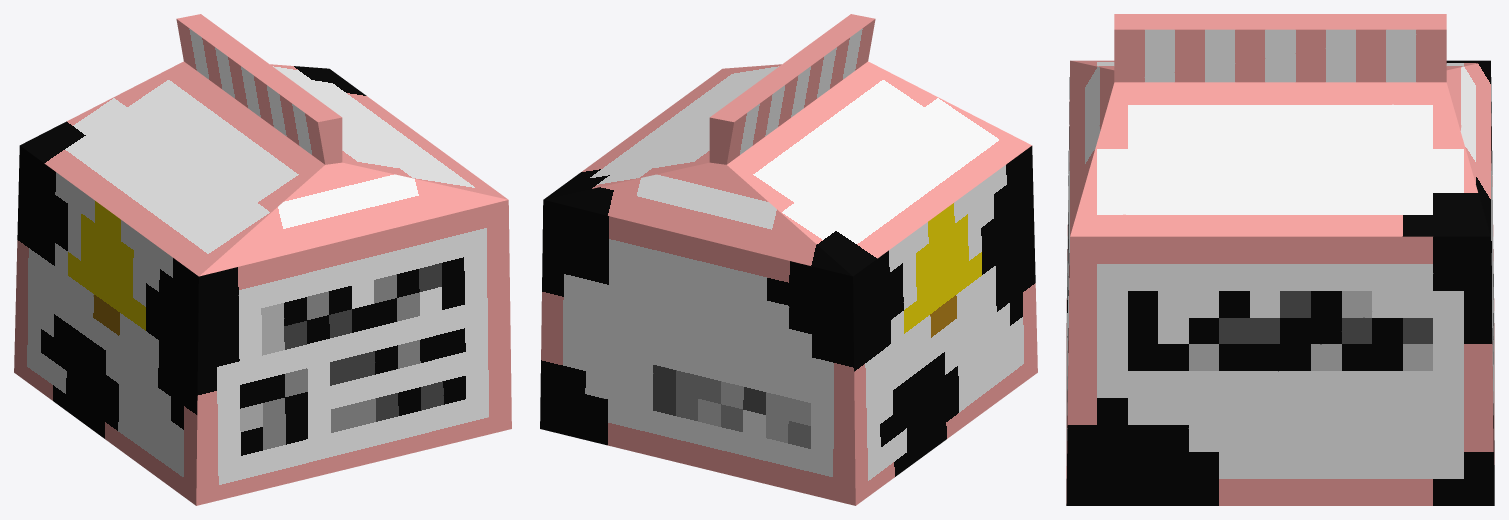
The model's file is leite.gltf.
3 views of the same model, side by side, from view 1: azimuth 30°, elevation 25°; view 2: azimuth 150°, elevation 25°; view 3: azimuth 270°, elevation 25° (orthographic). The views are drawn at different scales.
Visible parts, largest first — view 1: cuboid; view 2: cuboid; view 3: cuboid.
Boxes of the visible parts, box(x1,y1,x2,y2) form: cuboid: box(14, 14, 511, 505); cuboid: box(540, 14, 1037, 505); cuboid: box(1066, 14, 1494, 505).
Size of the model in its own units: 0.875 by 0.8851 by 0.875.
Materials: 1 (1 with a texture image).
